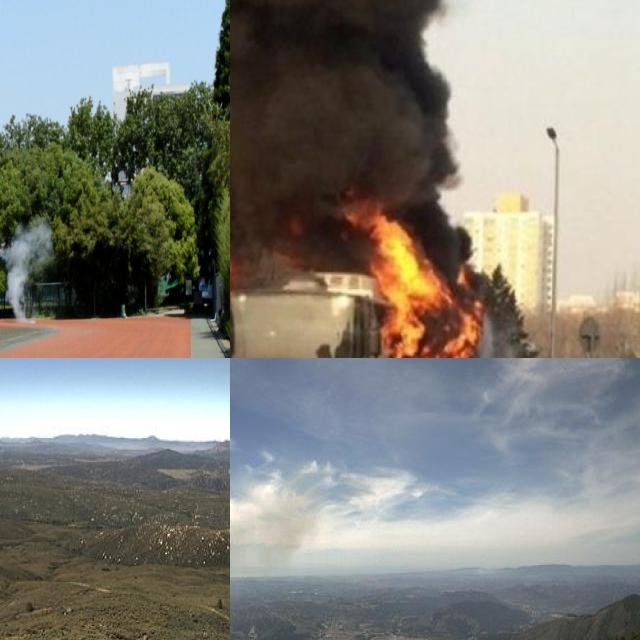fire: (352, 196, 491, 358)
smoke: (230, 0, 477, 283), (230, 486, 311, 640), (0, 223, 54, 327)
